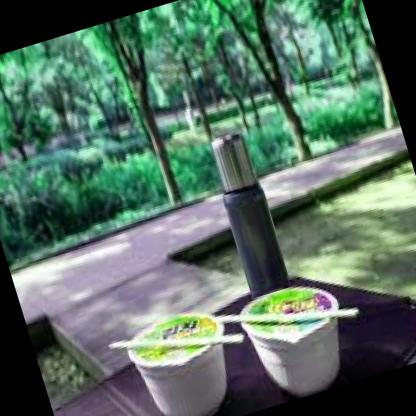Ramen: (232, 272, 364, 402), (118, 300, 252, 416)
